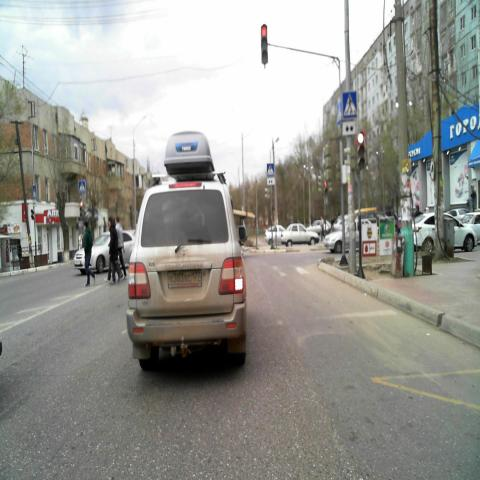8_15: (344, 122, 357, 134)
